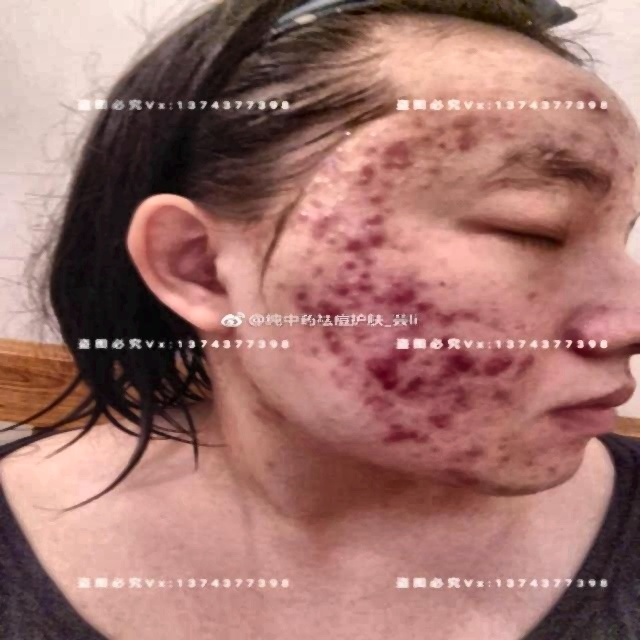nodule: (376, 424, 426, 452), (364, 360, 420, 385), (351, 215, 402, 238), (345, 163, 384, 192), (447, 392, 491, 417), (507, 351, 542, 380), (450, 440, 490, 465), (349, 141, 380, 173), (356, 178, 388, 209), (349, 271, 386, 297), (378, 337, 411, 364), (431, 306, 466, 331), (408, 174, 444, 197), (380, 280, 413, 304), (426, 412, 460, 435), (348, 232, 389, 250), (324, 252, 358, 273), (378, 131, 404, 158), (322, 366, 351, 390), (301, 172, 334, 193), (305, 337, 339, 357), (343, 321, 371, 344), (407, 371, 437, 392), (482, 358, 506, 383), (571, 83, 604, 101), (286, 279, 314, 300), (359, 391, 393, 408), (461, 301, 486, 324), (442, 352, 468, 374), (492, 448, 518, 470), (335, 348, 362, 369), (409, 293, 433, 316), (416, 158, 446, 176), (518, 452, 541, 475), (454, 470, 480, 490), (286, 306, 310, 327), (452, 134, 480, 152), (300, 240, 324, 261), (407, 357, 433, 376), (286, 214, 309, 234), (430, 138, 456, 155), (305, 207, 328, 226), (338, 297, 367, 312), (314, 296, 338, 314), (327, 278, 349, 297), (314, 324, 340, 340), (542, 459, 563, 477), (329, 222, 354, 237), (337, 238, 358, 255), (330, 142, 350, 159), (460, 360, 481, 376)
